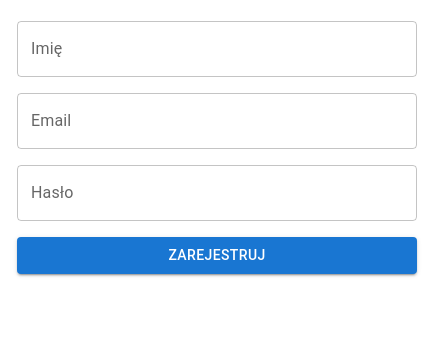
RegisterForm › should display generic error message when an unknown error occurs
Step 1. Type "John" into the field labelled "Imię" → point(217, 49), box [17,21,417,77]
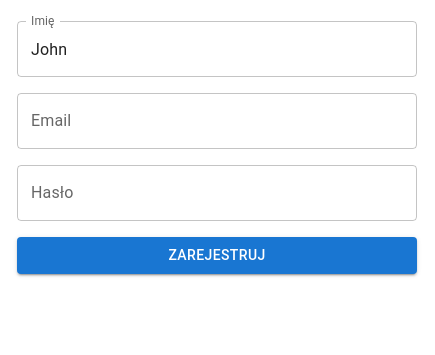
Step 2. Type "john@example.com" into the field labelled "Email" → point(217, 121), box [17,93,417,149]
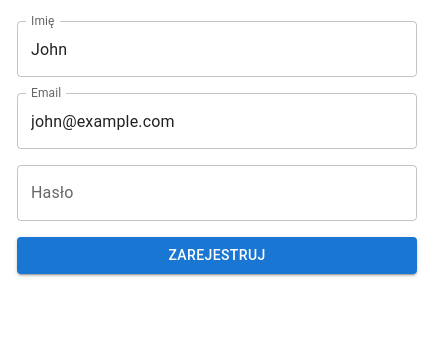
Step 3. Type "password123" into the password field labelled "Hasło" → point(217, 193), box [17,165,417,221]
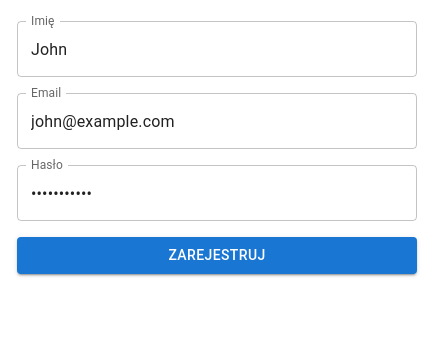
Step 4. Click the button "Zarejestruj" → point(217, 255), box [17,237,417,274]
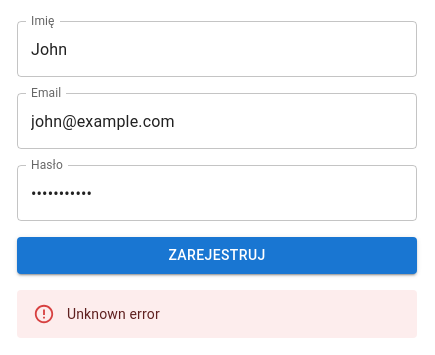
expect the text "Unknown error" is shown: met, box [67,306,160,322]
